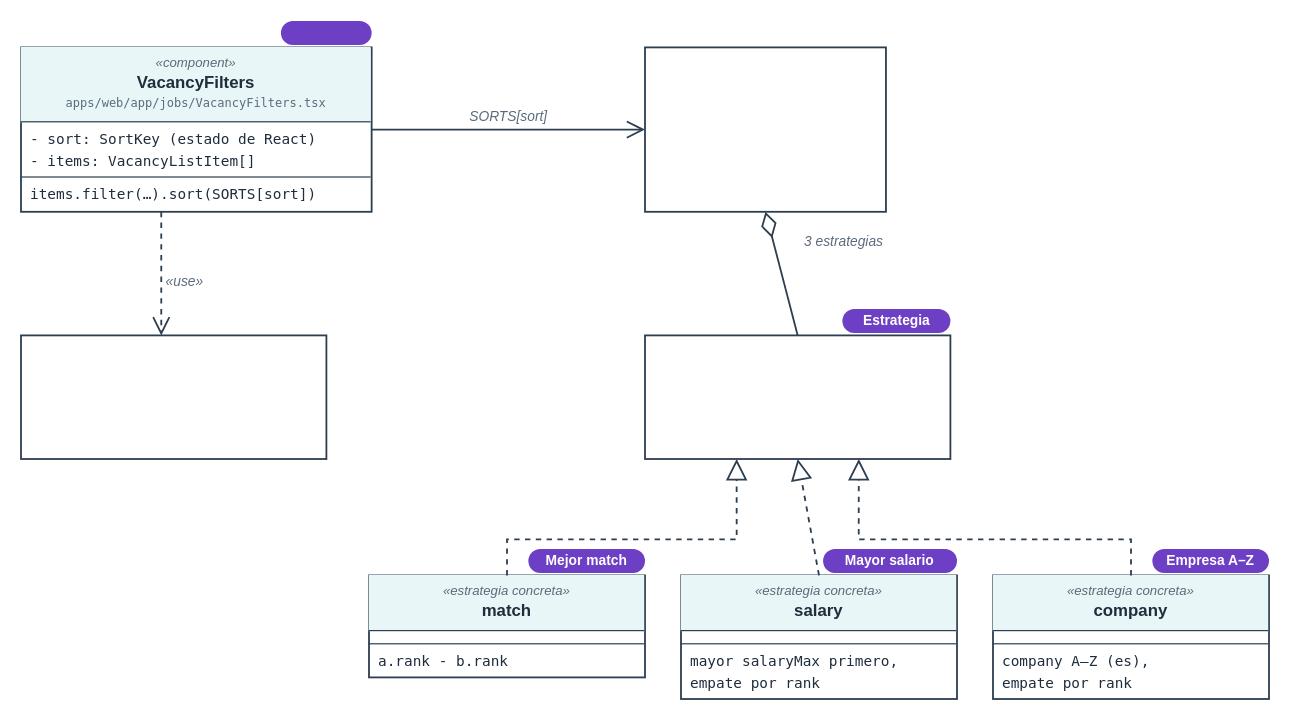
Some shapes in this 1291 by 720 pixel diagram are drawn without their labels. The box of each missing label's shape, as (x1, y1, x2, y2) in pixels:
Contexto: (280, 20, 371, 44)
«const» SORTS Record<SortKey, Comparador> match salary company: (644, 46, 886, 212)
«type» Comparador (a: VacancyListItem, b: VacancyListItem) => number: (644, 334, 951, 459)
«type» SortKey "match" | "salary" | "company" elegida en «Ordenar por»: (20, 334, 327, 459)
